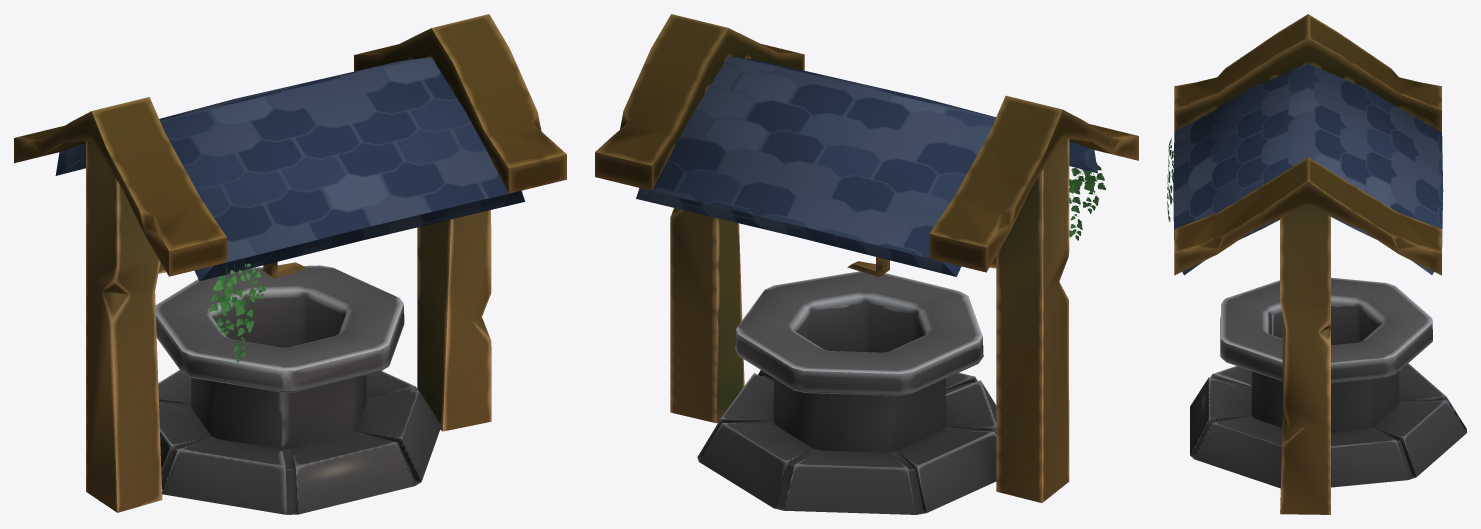
Rendered from aquifer.fbx.
3 renders of one model, left to right at view 1: azimuth 30°, elevation 25°; view 2: azimuth 150°, elevation 25°; view 3: azimuth 270°, elevation 25°, orthographic. The views are drawn at different scales.
Parts seen in each view (by area): view 1: Waterpool_LOW; view 2: Waterpool_LOW; view 3: Waterpool_LOW.
Boxes of the visible parts, left/top/right/bottom form: Waterpool_LOW: left=14, top=14, right=566, bottom=514; Waterpool_LOW: left=595, top=14, right=1138, bottom=514; Waterpool_LOW: left=1167, top=14, right=1466, bottom=514.
Bounding box in the file's own units: 319 × 296 × 238.
2 materials, 2 textured.
